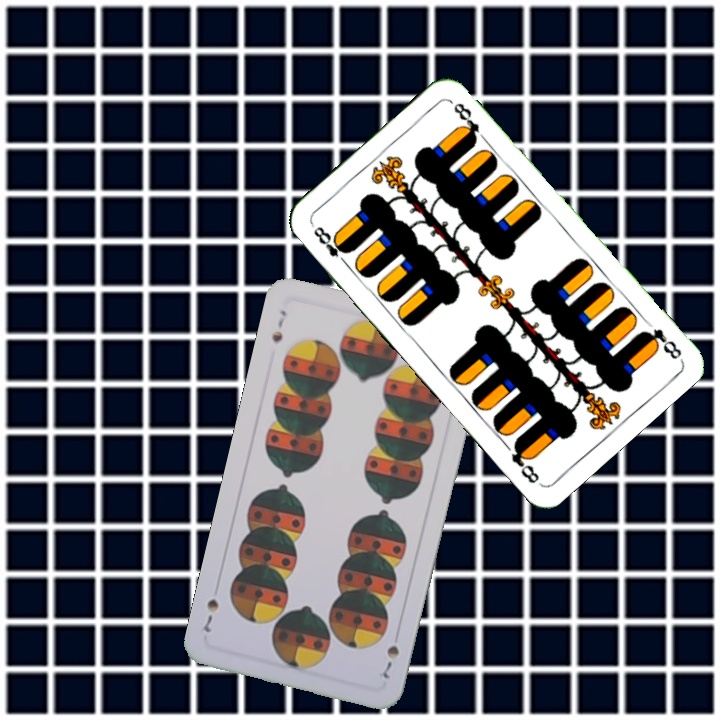E8: (637, 314, 685, 362), (307, 221, 352, 269)
S7: (374, 641, 402, 685), (268, 306, 290, 345)
